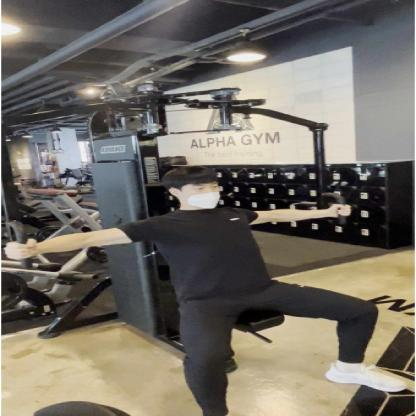chest fly machine: (0, 75, 416, 416)
